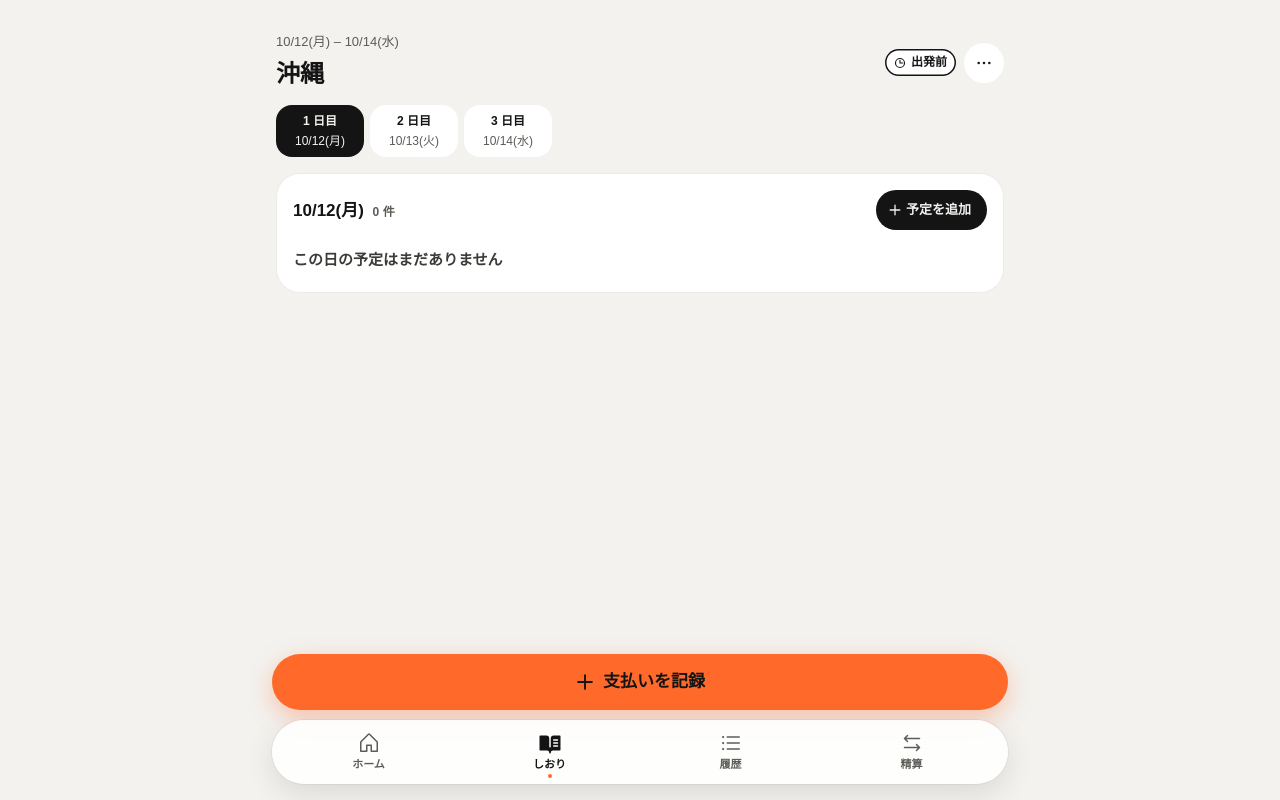
Test: ItineraryScreen (/trips/{id}/itinerary) › W-23: 名前と期間の両方を変えると PATCH → PUT の順に送る
expect the heading "沖縄" is shown: met, box top-left (276, 60), bottom-right (324, 87)
Step 1. Click the button named "旅行のメニュー" → (984, 63), box top-left (964, 43), bottom-right (1004, 83)
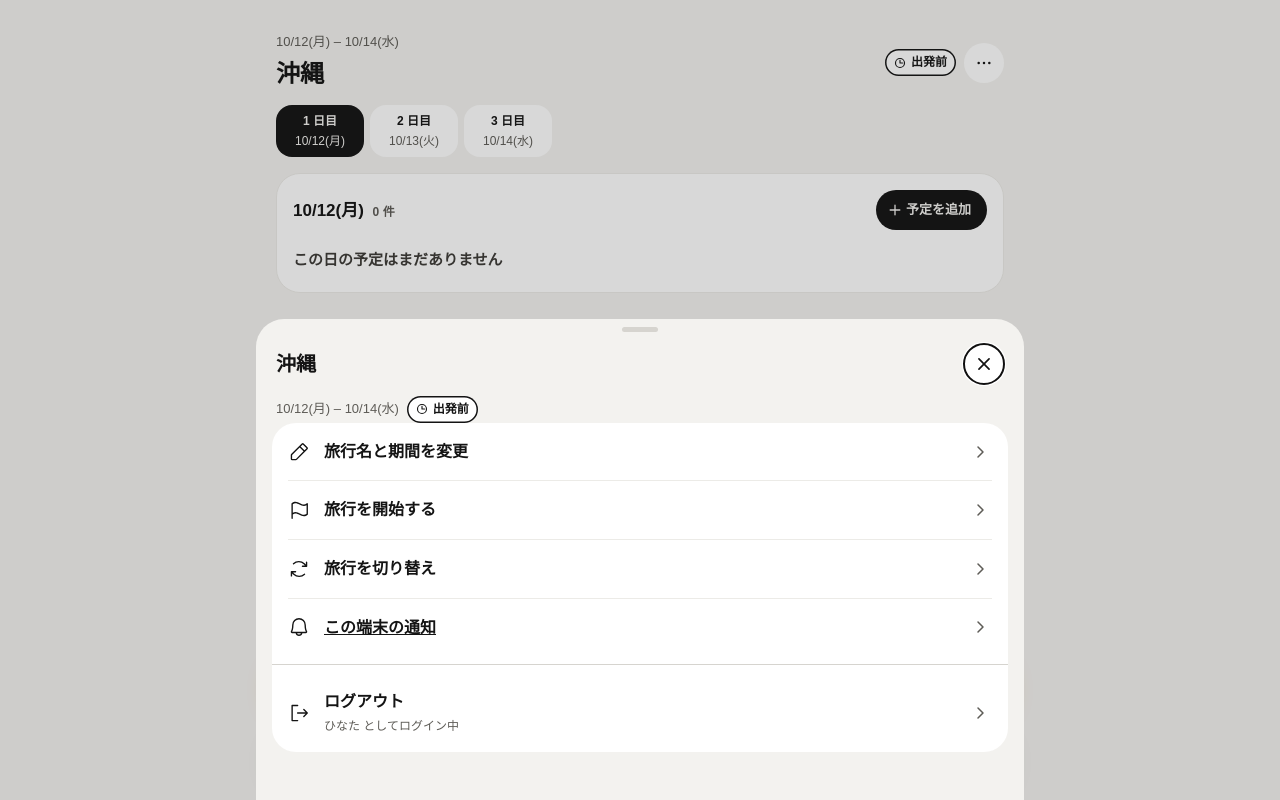
Step 2. Click the button "旅行名と期間を変更" → (396, 451), box top-left (288, 423), bottom-right (992, 480)
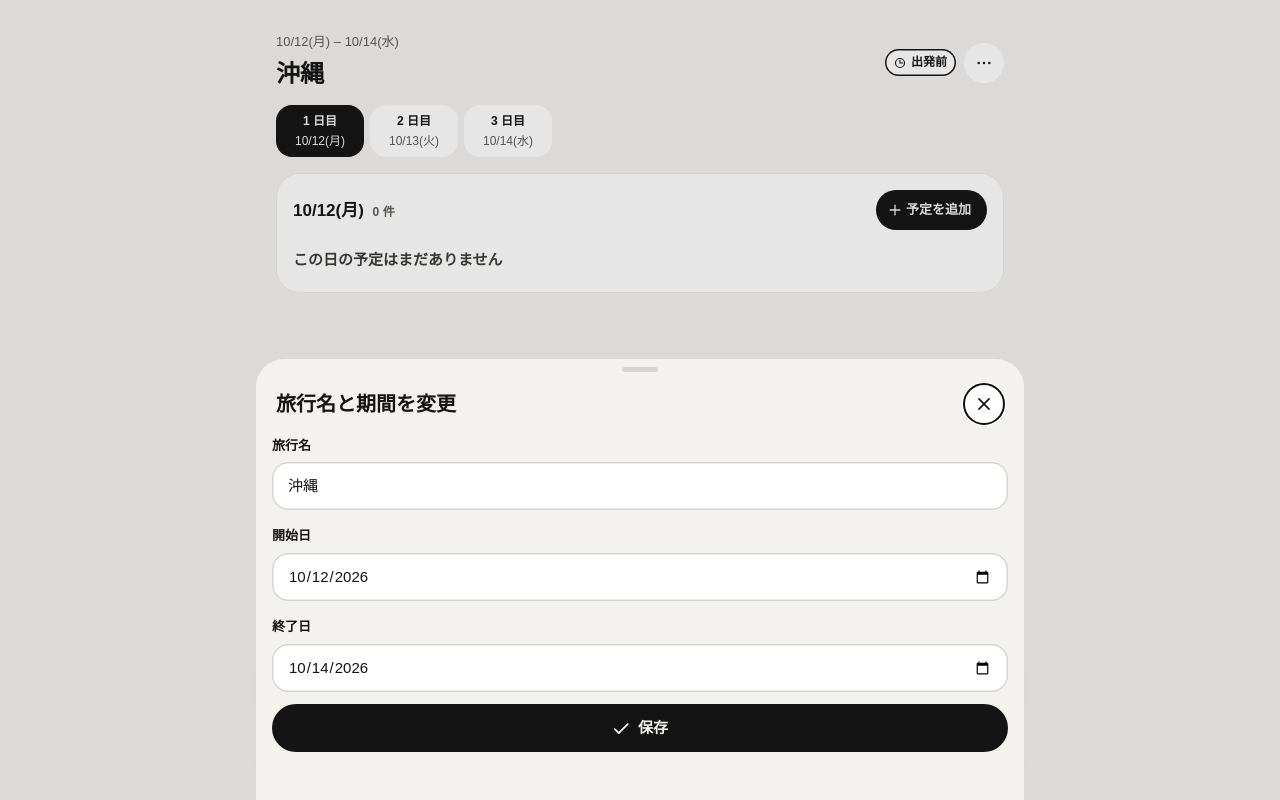
Step 3. Replace the text in the field labelled "旅行名" with "石垣島" → (640, 486), box top-left (272, 462), bottom-right (1008, 510)
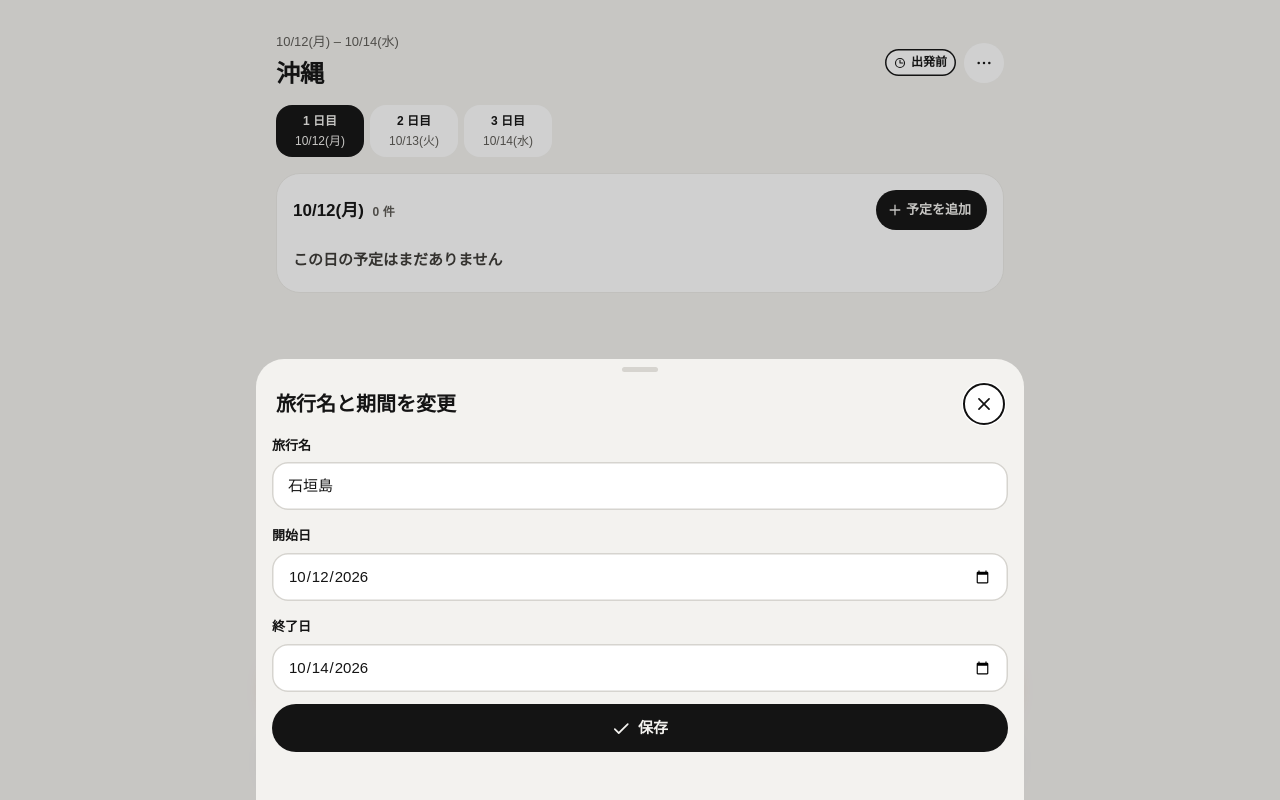
Step 4. Type "2026-10-20" into the date field labelled "開始日" → (640, 577), box top-left (272, 553), bottom-right (1008, 601)
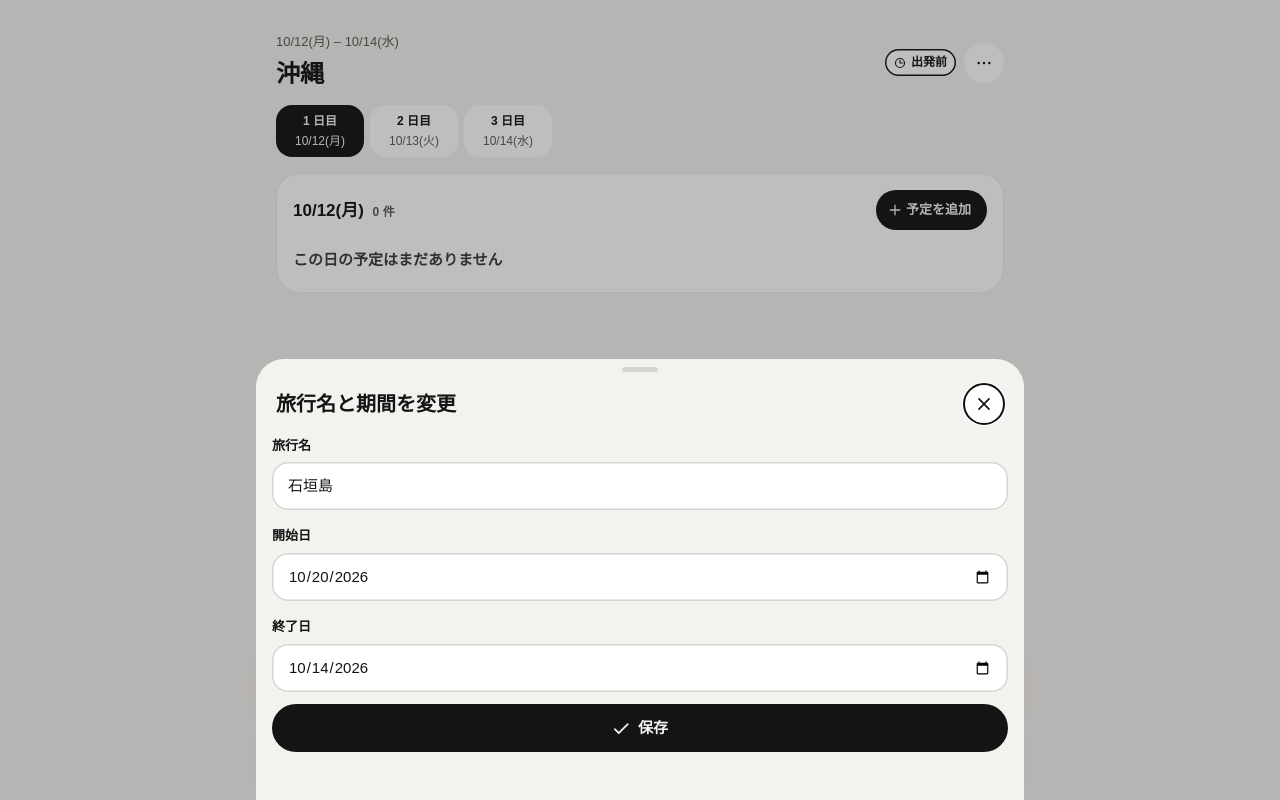
Step 5. Type "2026-10-22" into the date field labelled "終了日" → (640, 668), box top-left (272, 644), bottom-right (1008, 692)
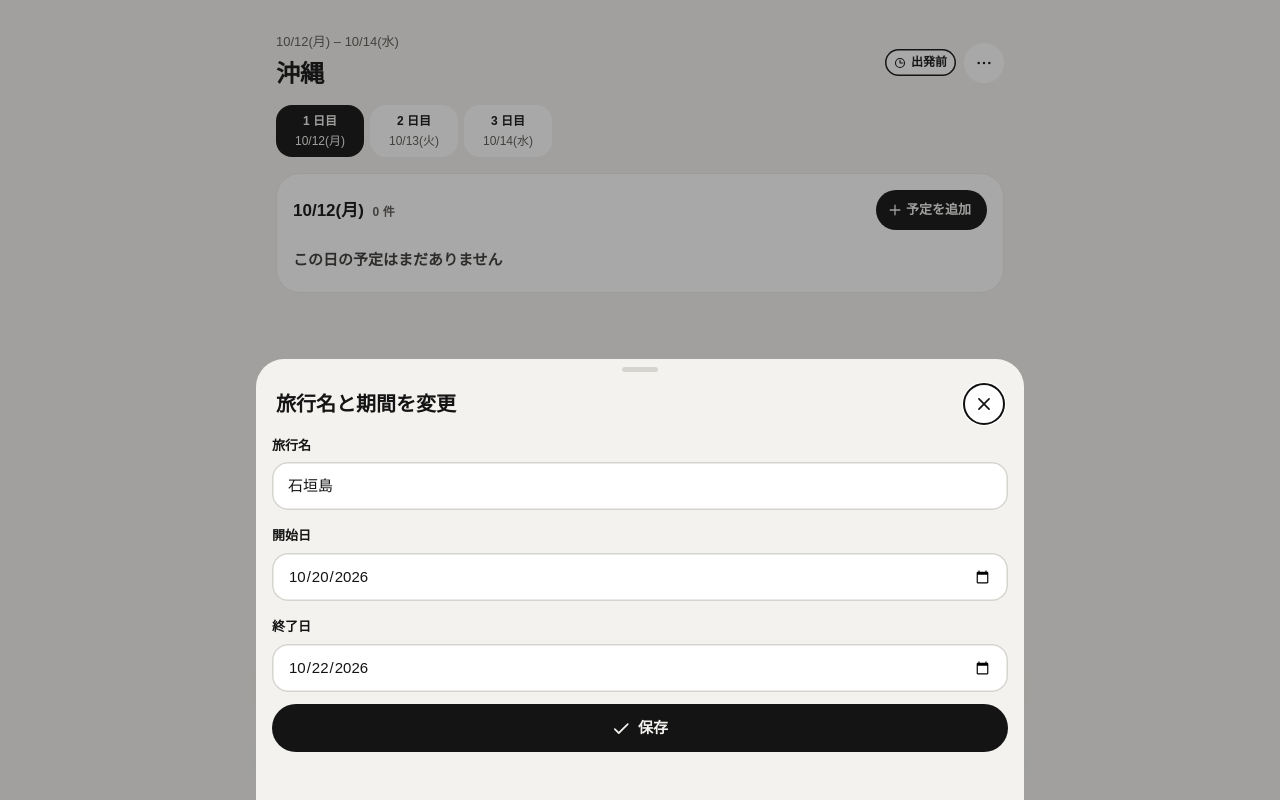
expect the button "保存" is enabled: met
Step 6. Click the button "保存" → (640, 728), box top-left (272, 704), bottom-right (1008, 752)
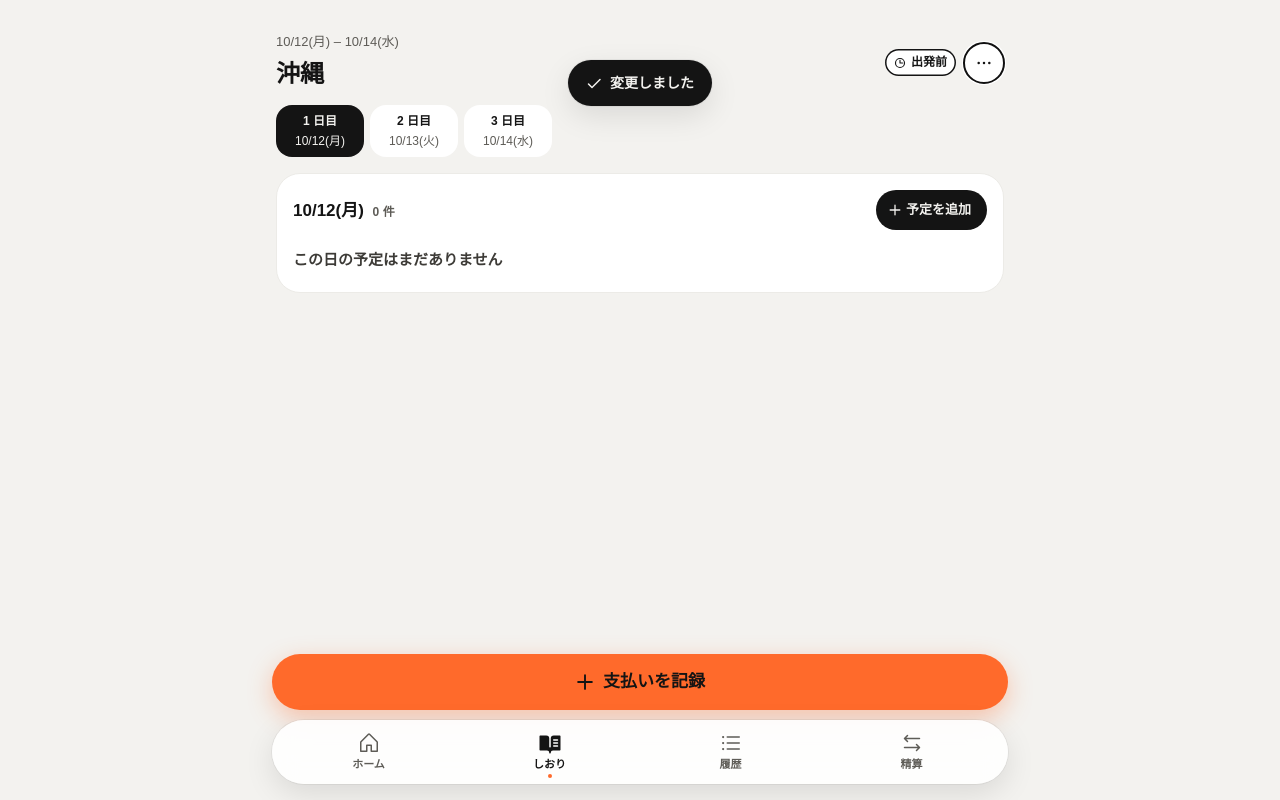
expect the text "変更しました" is shown: met, box top-left (568, 60), bottom-right (712, 106)
